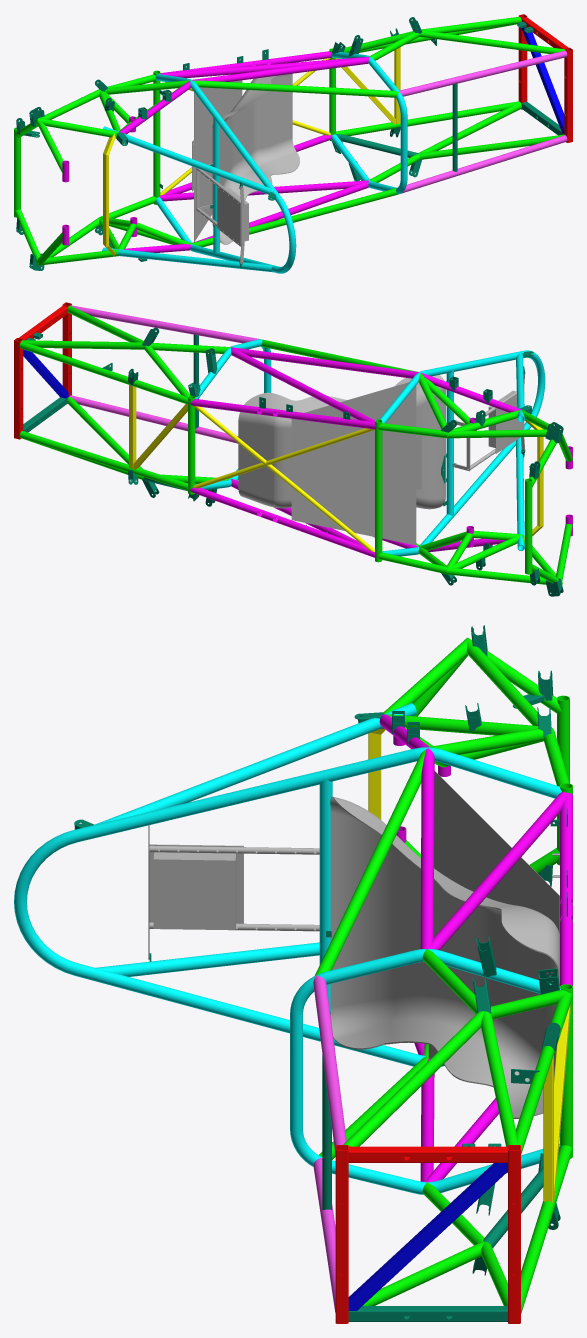
File: ses-fuel_chass_shifting_battery_headrest_fea.glb
3 renders of one model, top to bottom at view 1: azimuth 30°, elevation 25°; view 2: azimuth 150°, elevation 25°; view 3: azimuth 270°, elevation 25°, orthographic. The views are drawn at different scales.
Parts seen in each view (by area): view 1: 00001-001_CHS_frame_SES-1, 00003-006-Ergonomics_Seat-1, 0000101-001_ERGO_secondaryFirewall-1, 00111-001_ERGO_HeadRestBack_1inFor test-3; view 2: 00001-001_CHS_frame_SES-1, 0000101-001_ERGO_secondaryFirewall-1, 00003-006-Ergonomics_Seat-1, 00111-001_ERGO_HeadRestBack_1inFor test-3; view 3: 00001-001_CHS_frame_SES-1, 00003-006-Ergonomics_Seat-1, 0000101-001_ERGO_secondaryFirewall-1, Part2^00111-001_ERGO_HeadRestAssembly-1, Headrest Adjusting Mount-3, 00111-001_ERGO_HeadRestBack_1inFor test-3.
Boxes of the visible parts, x1,y1,x2,y2 form: 00001-001_CHS_frame_SES-1: [14, 14, 572, 273]; 00003-006-Ergonomics_Seat-1: [212, 73, 299, 244]; 0000101-001_ERGO_secondaryFirewall-1: [192, 74, 242, 242]; 00111-001_ERGO_HeadRestBack_1inFor test-3: [217, 184, 240, 246]; 00001-001_CHS_frame_SES-1: [14, 302, 572, 596]; 0000101-001_ERGO_secondaryFirewall-1: [286, 382, 421, 545]; 00003-006-Ergonomics_Seat-1: [238, 375, 445, 532]; 00111-001_ERGO_HeadRestBack_1inFor test-3: [495, 389, 524, 453]; 00001-001_CHS_frame_SES-1: [14, 625, 572, 1323]; 00003-006-Ergonomics_Seat-1: [330, 796, 559, 1118]; 0000101-001_ERGO_secondaryFirewall-1: [428, 771, 559, 1058]; Part2^00111-001_ERGO_HeadRestAssembly-1: [153, 852, 236, 930]; Headrest Adjusting Mount-3: [149, 845, 319, 854]; 00111-001_ERGO_HeadRestBack_1inFor test-3: [149, 844, 243, 923].
Bounding box in the file's own units: 2.15 × 0.6897 × 1.09.
